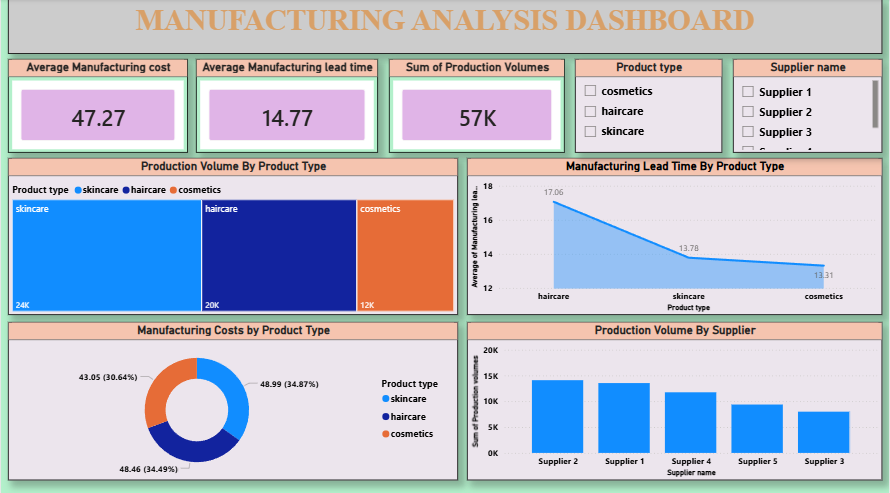

Layout of this report page (visuals, bound fields, positions):
{"tool":"powerbi","page":{"name":"Manufacturing Analysis Dashboard","canvas":[1280,720],"ordinal":4},"visuals":[{"type":"textbox","box":[10.2,0,1258.5,79],"z":0},{"type":"cardVisual","title":"Average Manufacturing cost","fields":{"Data":["Avg(project_supply_chain_data supply_chain_data.Manufacturing costs)"]},"box":[10.1,86.4,259.2,135.4],"z":1000},{"type":"cardVisual","title":"Average Manufacturing lead time","fields":{"Data":["Avg(project_supply_chain_data supply_chain_data.Manufacturing lead time)"]},"box":[280.8,86.4,262.1,135.4],"z":2000},{"type":"cardVisual","title":"Sum of Production Volumes","fields":{"Data":["Sum(project_supply_chain_data supply_chain_data.Production volumes)"]},"box":[558.7,86.4,253.4,135.4],"z":3000},{"type":"treemap","title":"Production Volume By Product Type ","fields":{"Group":["project_supply_chain_data supply_chain_data.Product type"],"Values":["Sum(project_supply_chain_data supply_chain_data.Production volumes)"]},"box":[10.1,229,648,226.1],"z":4000},{"type":"donutChart","title":"Manufacturing Costs by Product Type","fields":{"Category":["project_supply_chain_data supply_chain_data.Product type"],"Y":["Avg(project_supply_chain_data supply_chain_data.Manufacturing costs)"]},"box":[10.1,465.1,648,227.5],"z":5000},{"type":"lineChart","title":"Manufacturing Lead Time By Product Type","fields":{"Category":["project_supply_chain_data supply_chain_data.Product type"],"Y":["Avg(project_supply_chain_data supply_chain_data.Manufacturing lead time)"]},"box":[671,229,597.6,226.1],"z":6000},{"type":"columnChart","title":"Production Volume By Supplier","fields":{"Category":["project_supply_chain_data supply_chain_data.Supplier name"],"Y":["Sum(project_supply_chain_data supply_chain_data.Production volumes)"]},"box":[671,465.1,597.6,227.5],"z":7000},{"type":"slicer","title":"Product type","fields":{"Values":["project_supply_chain_data supply_chain_data.Product type"]},"box":[826.6,86.4,211.7,135.4],"z":8000},{"type":"slicer","title":"Supplier name","fields":{"Values":["project_supply_chain_data supply_chain_data.Supplier name"]},"box":[1054.1,86.4,214.6,135.4],"z":9000}]}

Visuals, with their boxes in screenshot pixels (x1, y1, x2, y2), scaled from the page's 1280x720 canvas onto the 890x493 screenshot:
textbox: left=7, top=0, right=882, bottom=54
"Average Manufacturing cost" cardVisual: left=7, top=59, right=187, bottom=152
"Average Manufacturing lead time" cardVisual: left=195, top=59, right=377, bottom=152
"Sum of Production Volumes" cardVisual: left=388, top=59, right=565, bottom=152
"Production Volume By Product Type " treemap: left=7, top=157, right=458, bottom=312
"Manufacturing Costs by Product Type" donutChart: left=7, top=318, right=458, bottom=474
"Manufacturing Lead Time By Product Type" lineChart: left=467, top=157, right=882, bottom=312
"Production Volume By Supplier" columnChart: left=467, top=318, right=882, bottom=474
"Product type" slicer: left=575, top=59, right=722, bottom=152
"Supplier name" slicer: left=733, top=59, right=882, bottom=152
